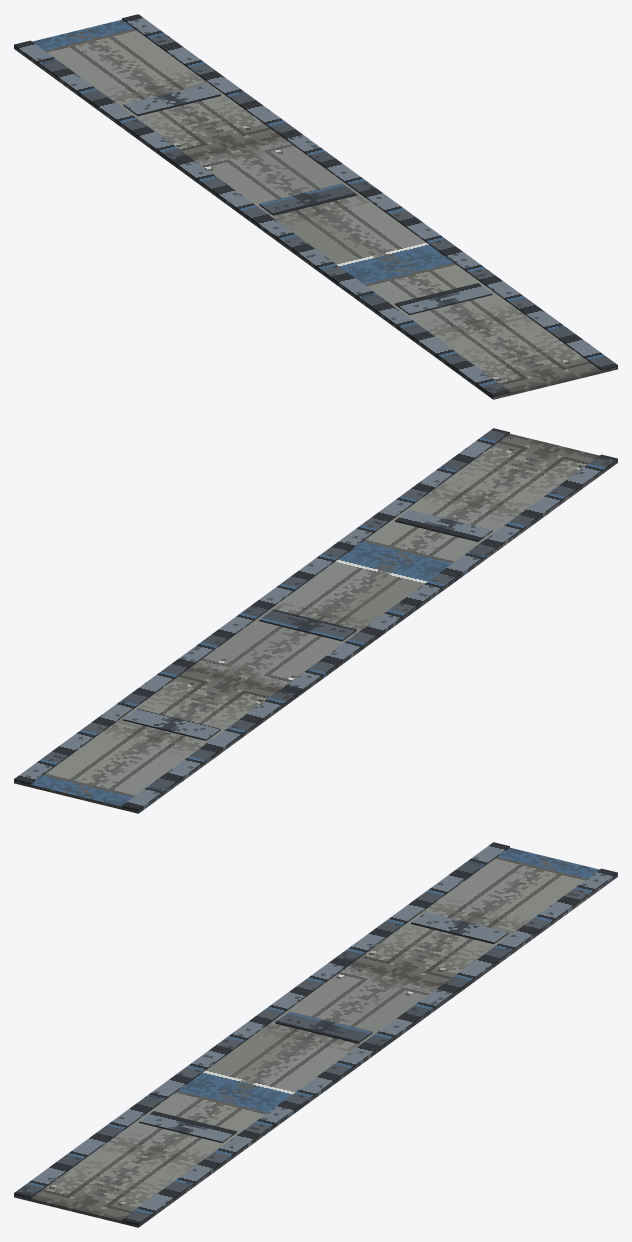
File: fx_charger_lane.glb
The picture shows the model from 3 angles, top to bottom: view 1: azimuth 30°, elevation 25°; view 2: azimuth 150°, elevation 25°; view 3: azimuth 330°, elevation 25°; orthographic projection.
Parts seen in each view (by area): view 1: lane_floor, lane_edge_-1, lane_edge_1, lane_bar_1, lane_bar_2, lane_bar_0; view 2: lane_floor, lane_edge_-1, lane_edge_1, lane_bar_1, lane_bar_2, lane_bar_0; view 3: lane_floor, lane_edge_1, lane_edge_-1, lane_bar_1, lane_bar_2, lane_bar_0.
Part boxes in pixels (<box>): lane_floor: <box>14,19,617,399</box>; lane_edge_-1: <box>14,40,509,399</box>; lane_edge_1: <box>122,14,617,372</box>; lane_bar_1: <box>259,183,356,215</box>; lane_bar_2: <box>123,84,220,116</box>; lane_bar_0: <box>395,283,492,315</box>; lane_floor: <box>14,433,617,813</box>; lane_edge_-1: <box>122,454,617,813</box>; lane_edge_1: <box>14,428,509,786</box>; lane_bar_1: <box>259,609,356,641</box>; lane_bar_2: <box>123,709,220,740</box>; lane_bar_0: <box>395,510,492,541</box>; lane_floor: <box>14,847,617,1227</box>; lane_edge_1: <box>122,868,617,1227</box>; lane_edge_-1: <box>14,842,509,1200</box>; lane_bar_1: <box>275,1011,372,1043</box>; lane_bar_2: <box>411,912,508,944</box>; lane_bar_0: <box>139,1111,236,1143</box>.
Bounding box in the file's own units: 0.9 × 0.03 × 6.
2 materials, 2 textured.
